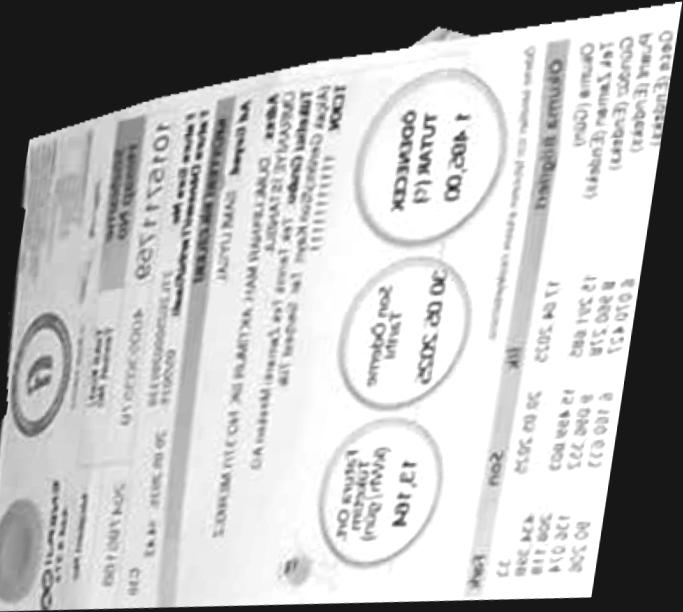electricity-bill: (0, 1, 682, 611)
